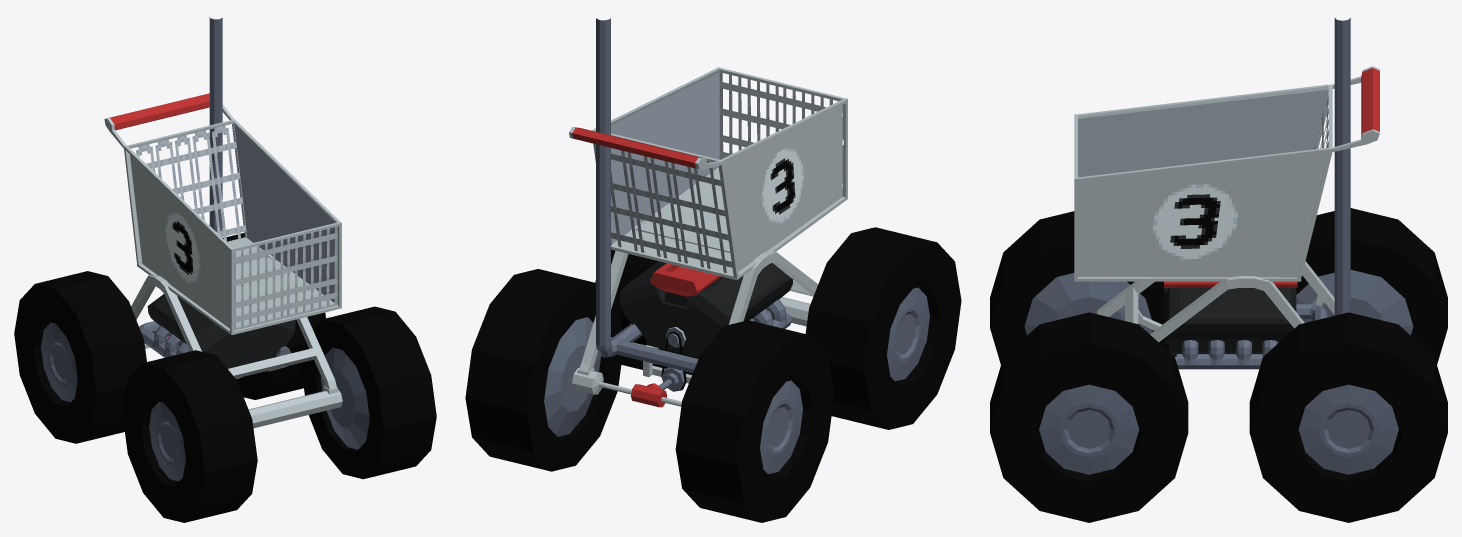
The model's file is trolley combine.glb.
3 renders of one model, left to right at view 1: azimuth 30°, elevation 25°; view 2: azimuth 150°, elevation 25°; view 3: azimuth 270°, elevation 25°, orthographic. The views are drawn at different scales.
Visible parts, largest first — view 1: Mainbody, FrontWheel R, RearWheel R, FrontWheel L, RearWheel L; view 2: Mainbody, RearWheel R, FrontWheel R, RearWheel L, FrontWheel L; view 3: Mainbody, FrontWheel L, RearWheel L, RearWheel R, FrontWheel R.
Part boxes in pixels (x1,y1,x2,y2): Mainbody: (104,16,342,428); FrontWheel R: (122,350,257,522); RearWheel R: (14,271,146,443); FrontWheel L: (301,306,436,479); RearWheel L: (223,233,325,399); Mainbody: (569,17,847,407); RearWheel R: (675,320,834,522); FrontWheel R: (805,227,961,429); RearWheel L: (465,269,622,471); FrontWheel L: (595,249,698,374); Mainbody: (1074,18,1379,369); FrontWheel L: (990,312,1188,522); RearWheel L: (1249,312,1447,522); RearWheel R: (1296,208,1447,364); FrontWheel R: (990,211,1168,364).
Bounding box in the file's own units: 2.91 × 4.62 × 4.14.
1 material, 1 textured.
